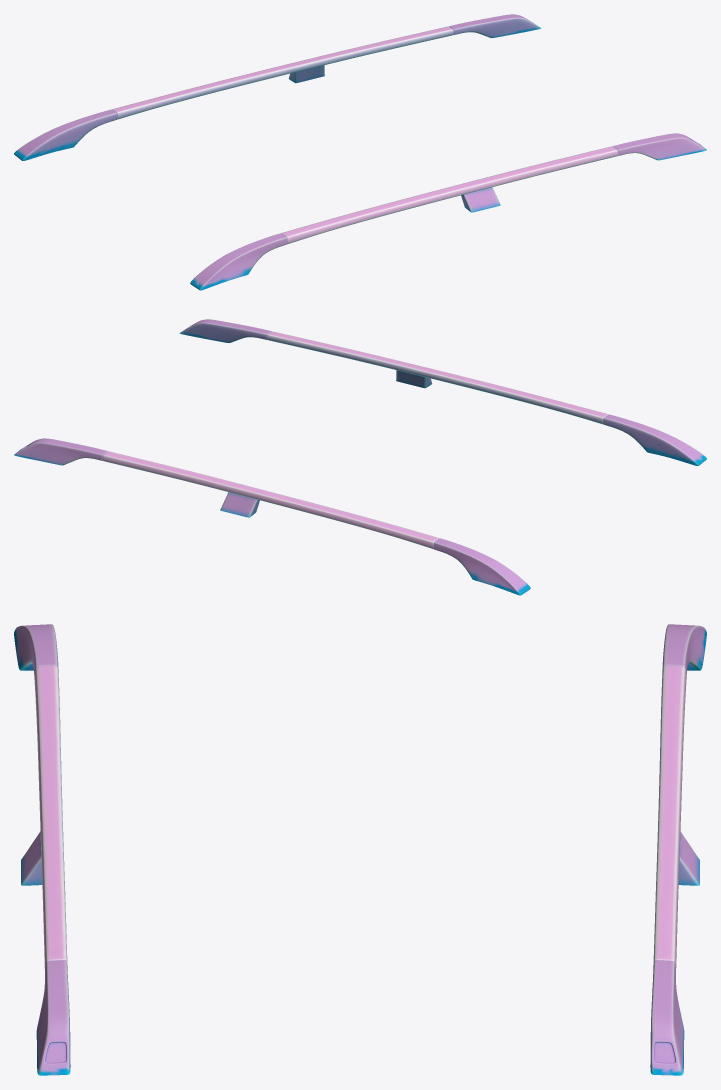
The model's file is roof_rails.glb.
3 views of the same model, one above another, from view 1: azimuth 30°, elevation 25°; view 2: azimuth 150°, elevation 25°; view 3: azimuth 270°, elevation 25° (orthographic). The views are drawn at different scales.
Parts seen in each view (by area): view 1: carpaint_7, chrome_3, chrome_4; view 2: carpaint_7, chrome_3, chrome_4; view 3: carpaint_7, chrome_3, chrome_4.
Part boxes in pixels (box(x1,y1,x2,y2)): carpaint_7: box(112, 26, 618, 244); chrome_3: box(14, 14, 706, 290); chrome_4: box(288, 65, 500, 212); carpaint_7: box(102, 331, 608, 549); chrome_3: box(14, 319, 706, 595); chrome_4: box(220, 370, 432, 517); carpaint_7: box(34, 665, 686, 968); chrome_3: box(14, 624, 706, 1075); chrome_4: box(21, 831, 699, 885).
Bounding box in the file's own units: 1.99 × 0.1154 × 1.25.
